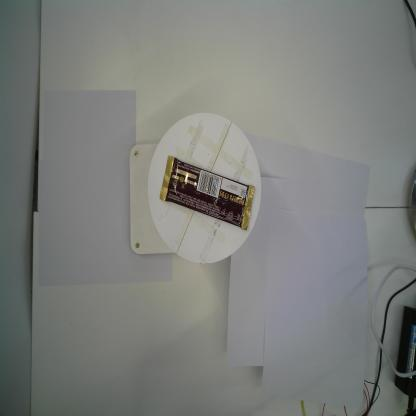Chocolate: (158, 153, 256, 233)
